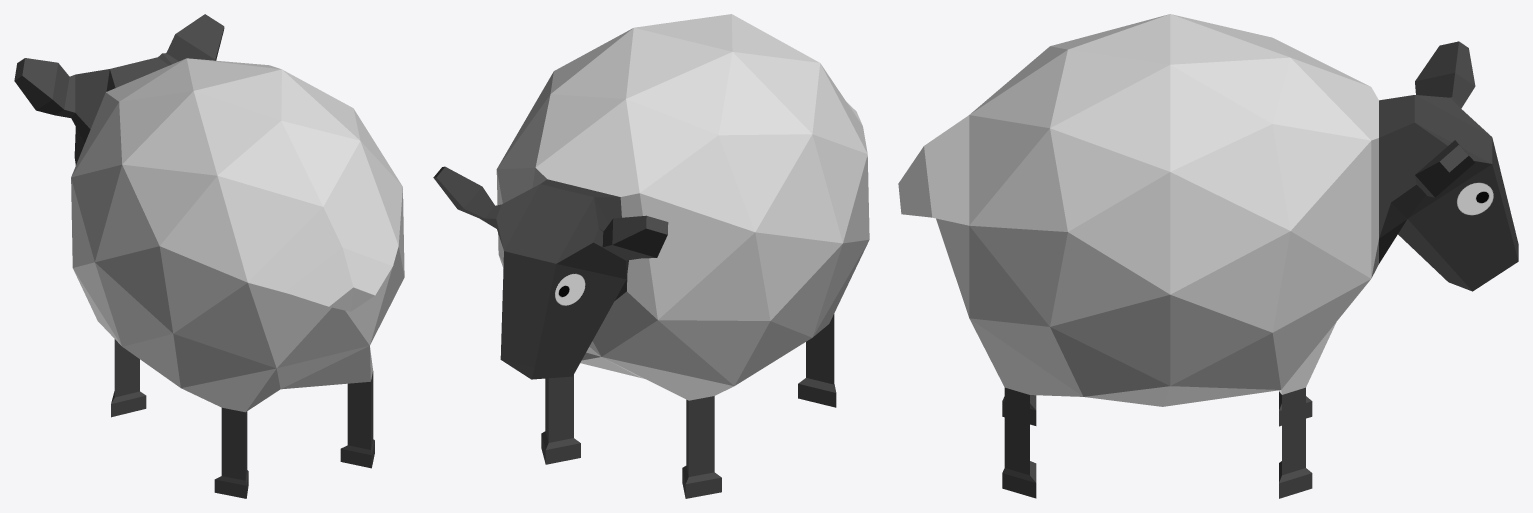
The model's file is Sheep.fbx.
3 views of the same model, side by side, from view 1: azimuth 30°, elevation 25°; view 2: azimuth 150°, elevation 25°; view 3: azimuth 270°, elevation 25° (orthographic). The views are drawn at different scales.
Parts seen in each view (by area): view 1: Icosphere; view 2: Icosphere; view 3: Icosphere.
Part boxes in pixels (left/top/right/bottom): Icosphere: left=14, top=14, right=404, bottom=498; Icosphere: left=433, top=14, right=869, bottom=498; Icosphere: left=898, top=14, right=1518, bottom=498.
Size of the model in its own units: 64.18 by 75.35 by 102.
